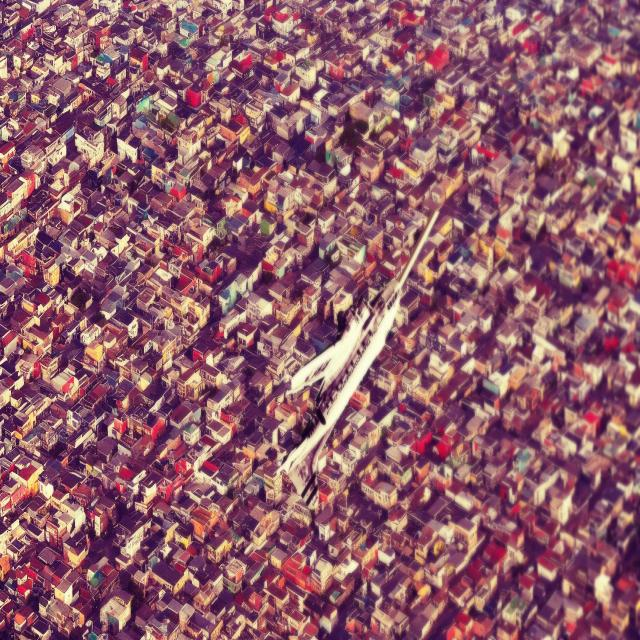airplane: (274, 192, 448, 500)
